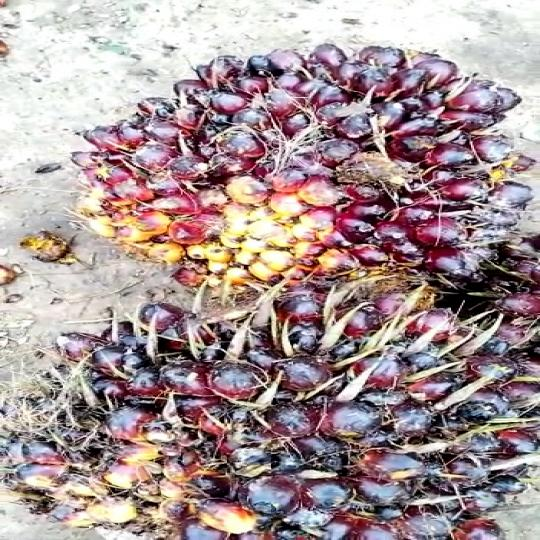kurang masak: (0, 292, 540, 540), (81, 44, 540, 300)
